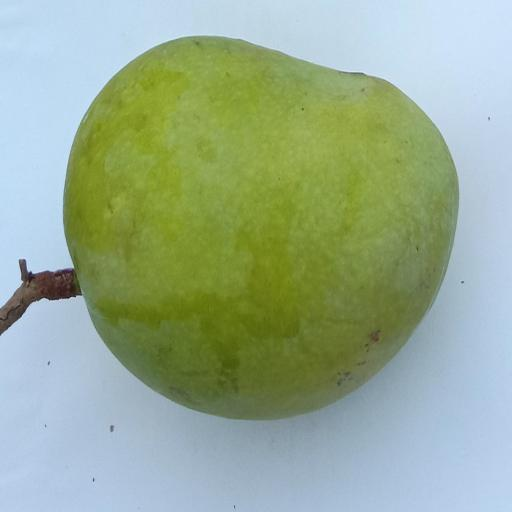mango-unripe: (47, 11, 478, 460)
